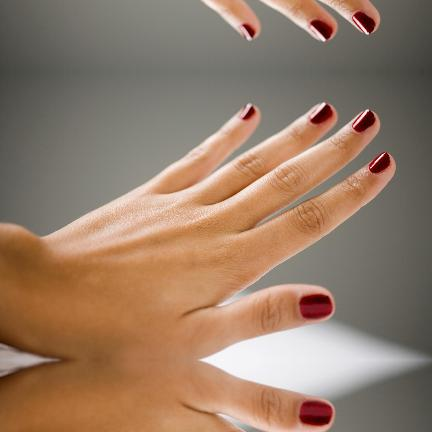Nail: (299, 293, 333, 320), (299, 400, 333, 427), (352, 109, 376, 133), (352, 11, 376, 35), (309, 102, 333, 125), (309, 19, 333, 42), (368, 152, 391, 174), (239, 104, 255, 121), (239, 23, 255, 40)
